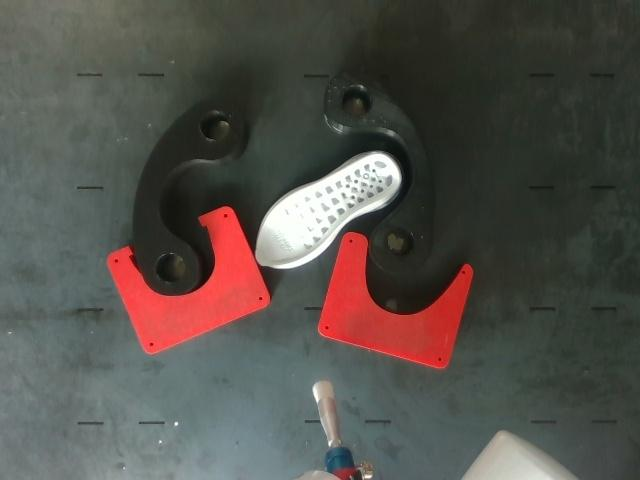shoes: (256, 154, 398, 266)
